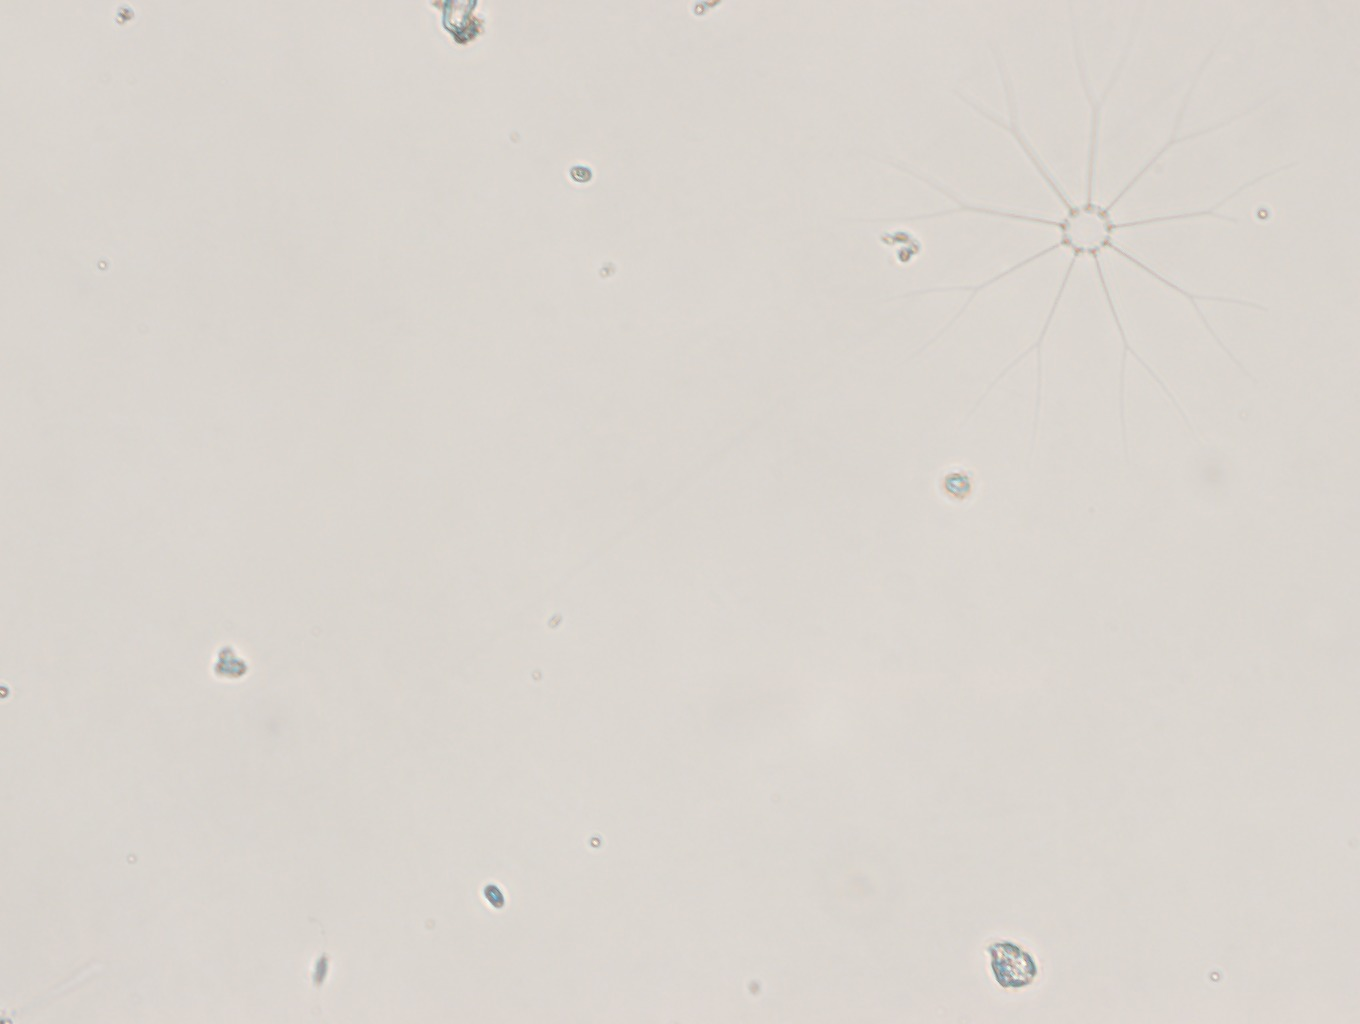bacteriastrum: (887, 25, 1290, 436)
